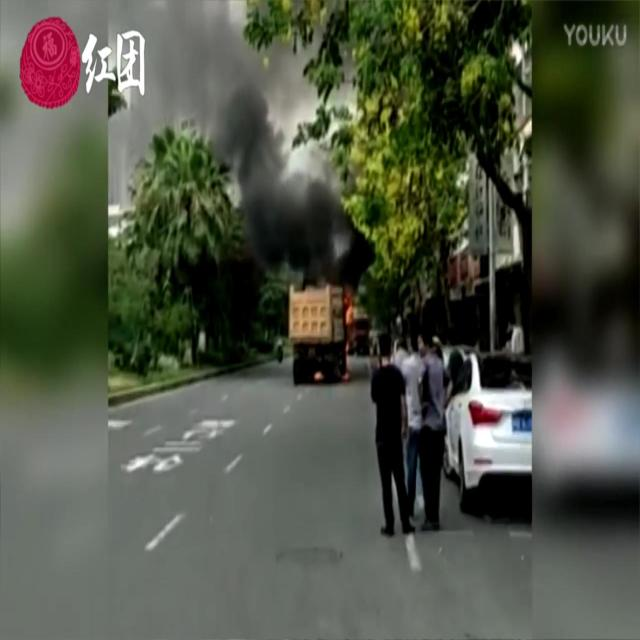fire: (342, 290, 354, 326)
smoke: (138, 0, 372, 281)
